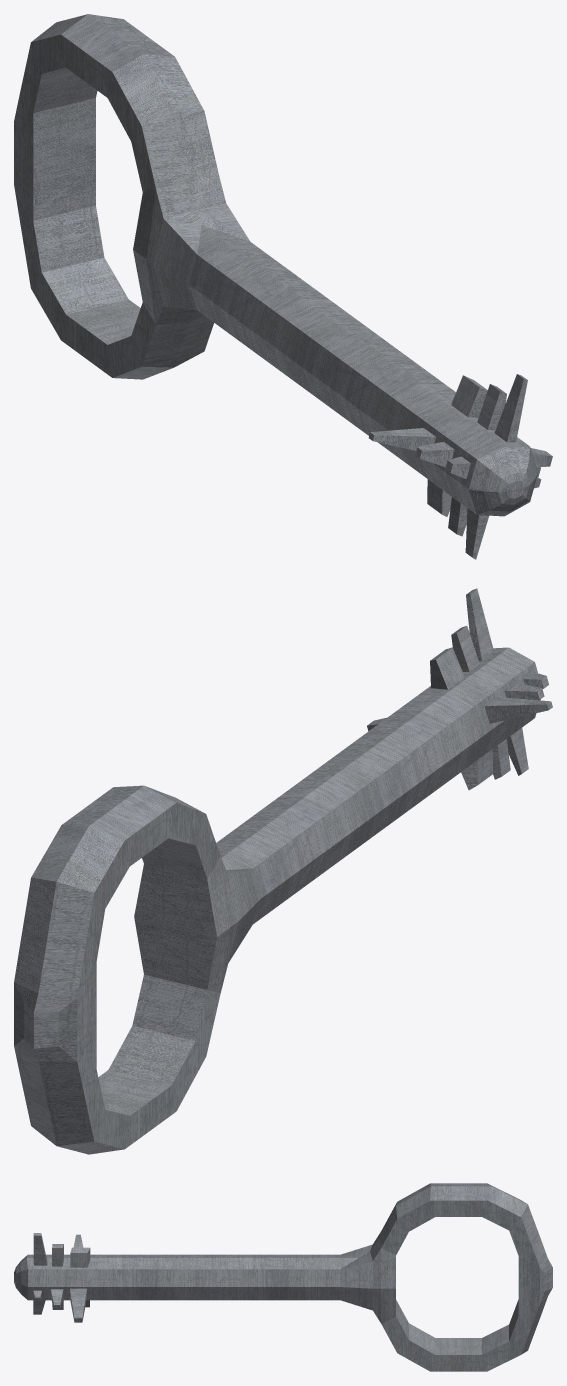
Rendered from llave3.fbx.
3 renders of one model, top to bottom at view 1: azimuth 30°, elevation 25°; view 2: azimuth 150°, elevation 25°; view 3: azimuth 270°, elevation 25°, orthographic. The views are drawn at different scales.
Parts seen in each view (by area): view 1: key3:Mesh; view 2: key3:Mesh; view 3: key3:Mesh.
Part boxes in pixels (<box>): key3:Mesh: <box>14,14,552,559</box>; key3:Mesh: <box>14,588,552,1154</box>; key3:Mesh: <box>14,1183,552,1371</box>.
Size of the model in its own units: 0.611 by 1.06 by 2.85.
1 material, 1 textured.
